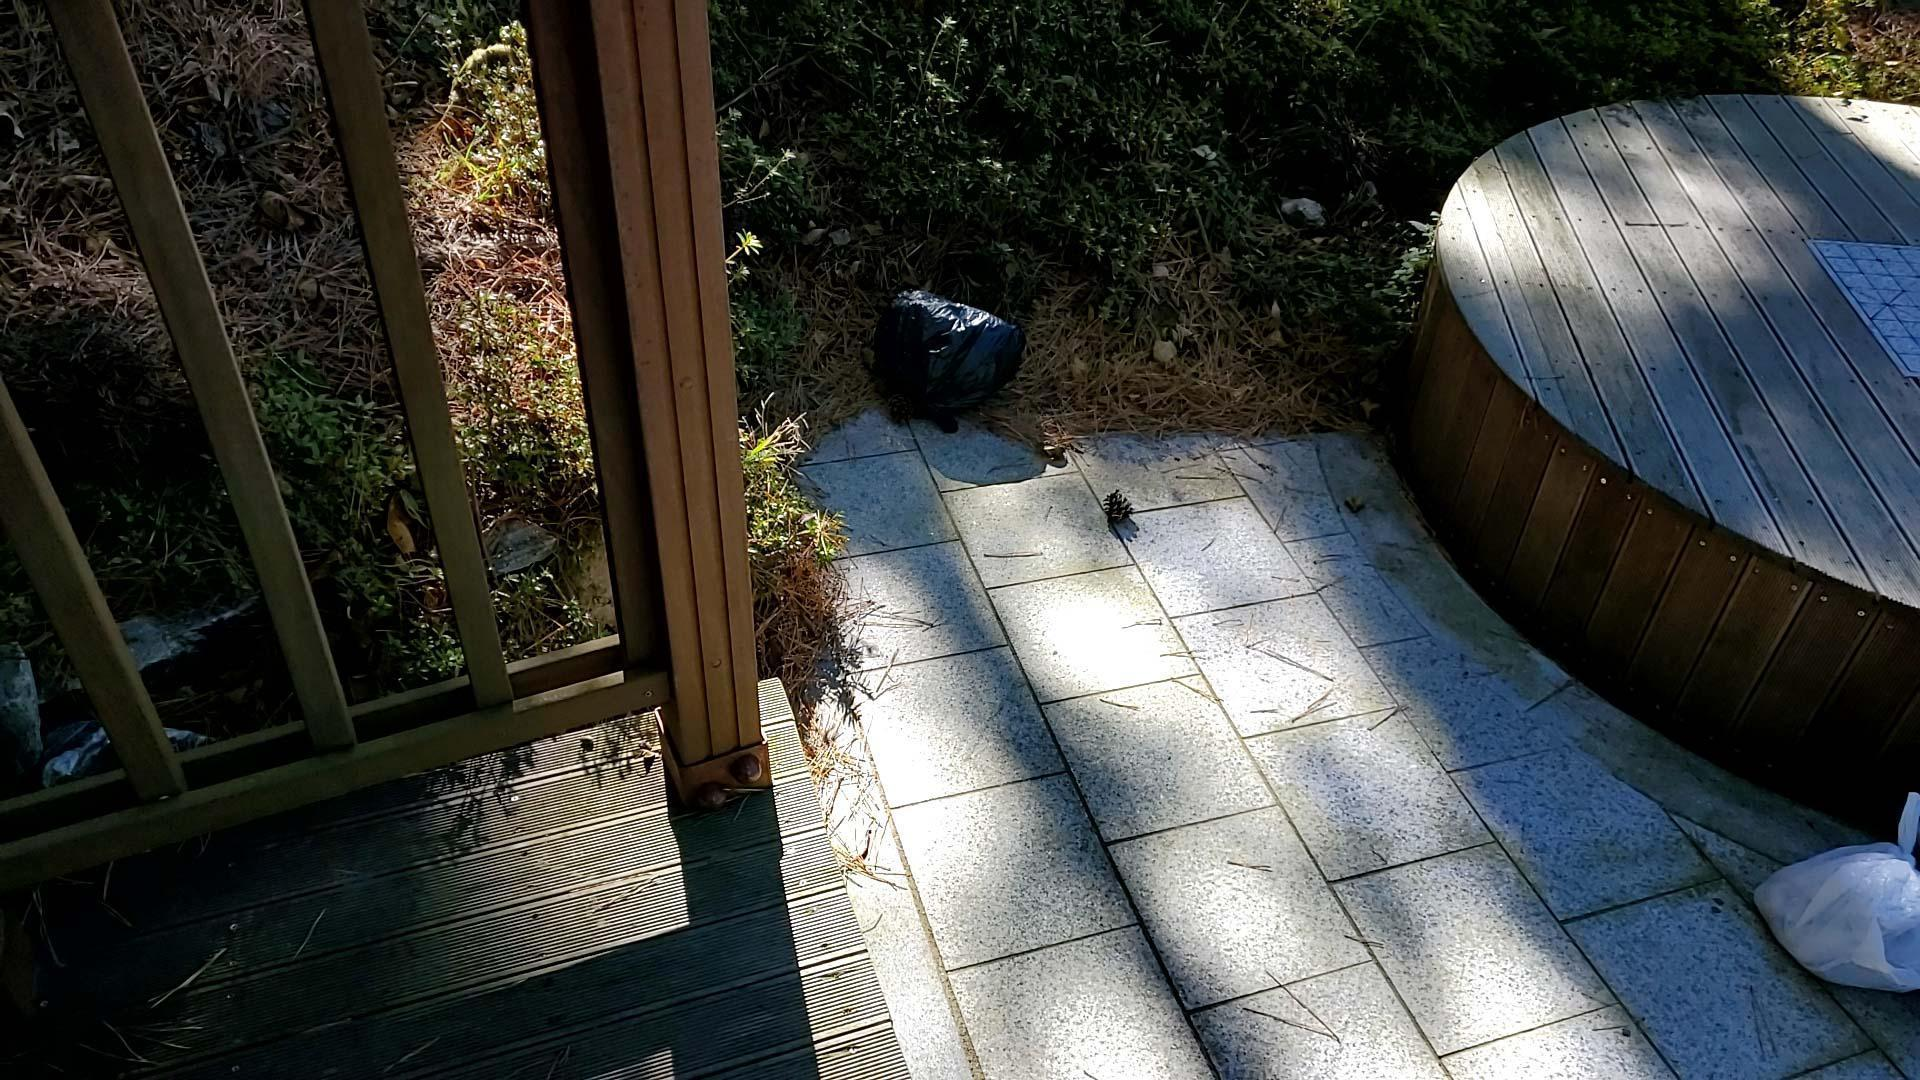black_bag: (862, 278, 1030, 440)
